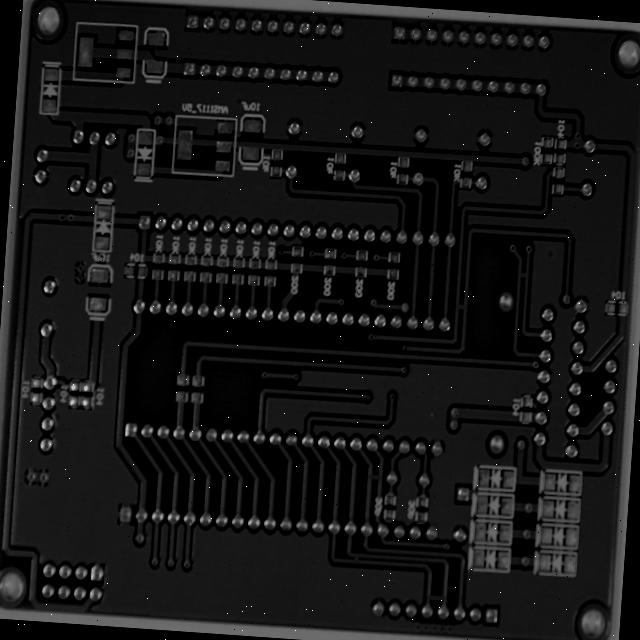short: (475, 578, 505, 603), (409, 431, 433, 457), (509, 225, 529, 250), (390, 531, 410, 555), (579, 189, 598, 212)
